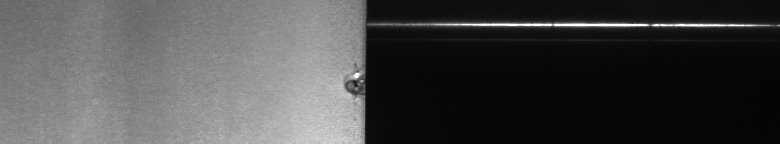hb: (337, 62, 356, 104)
